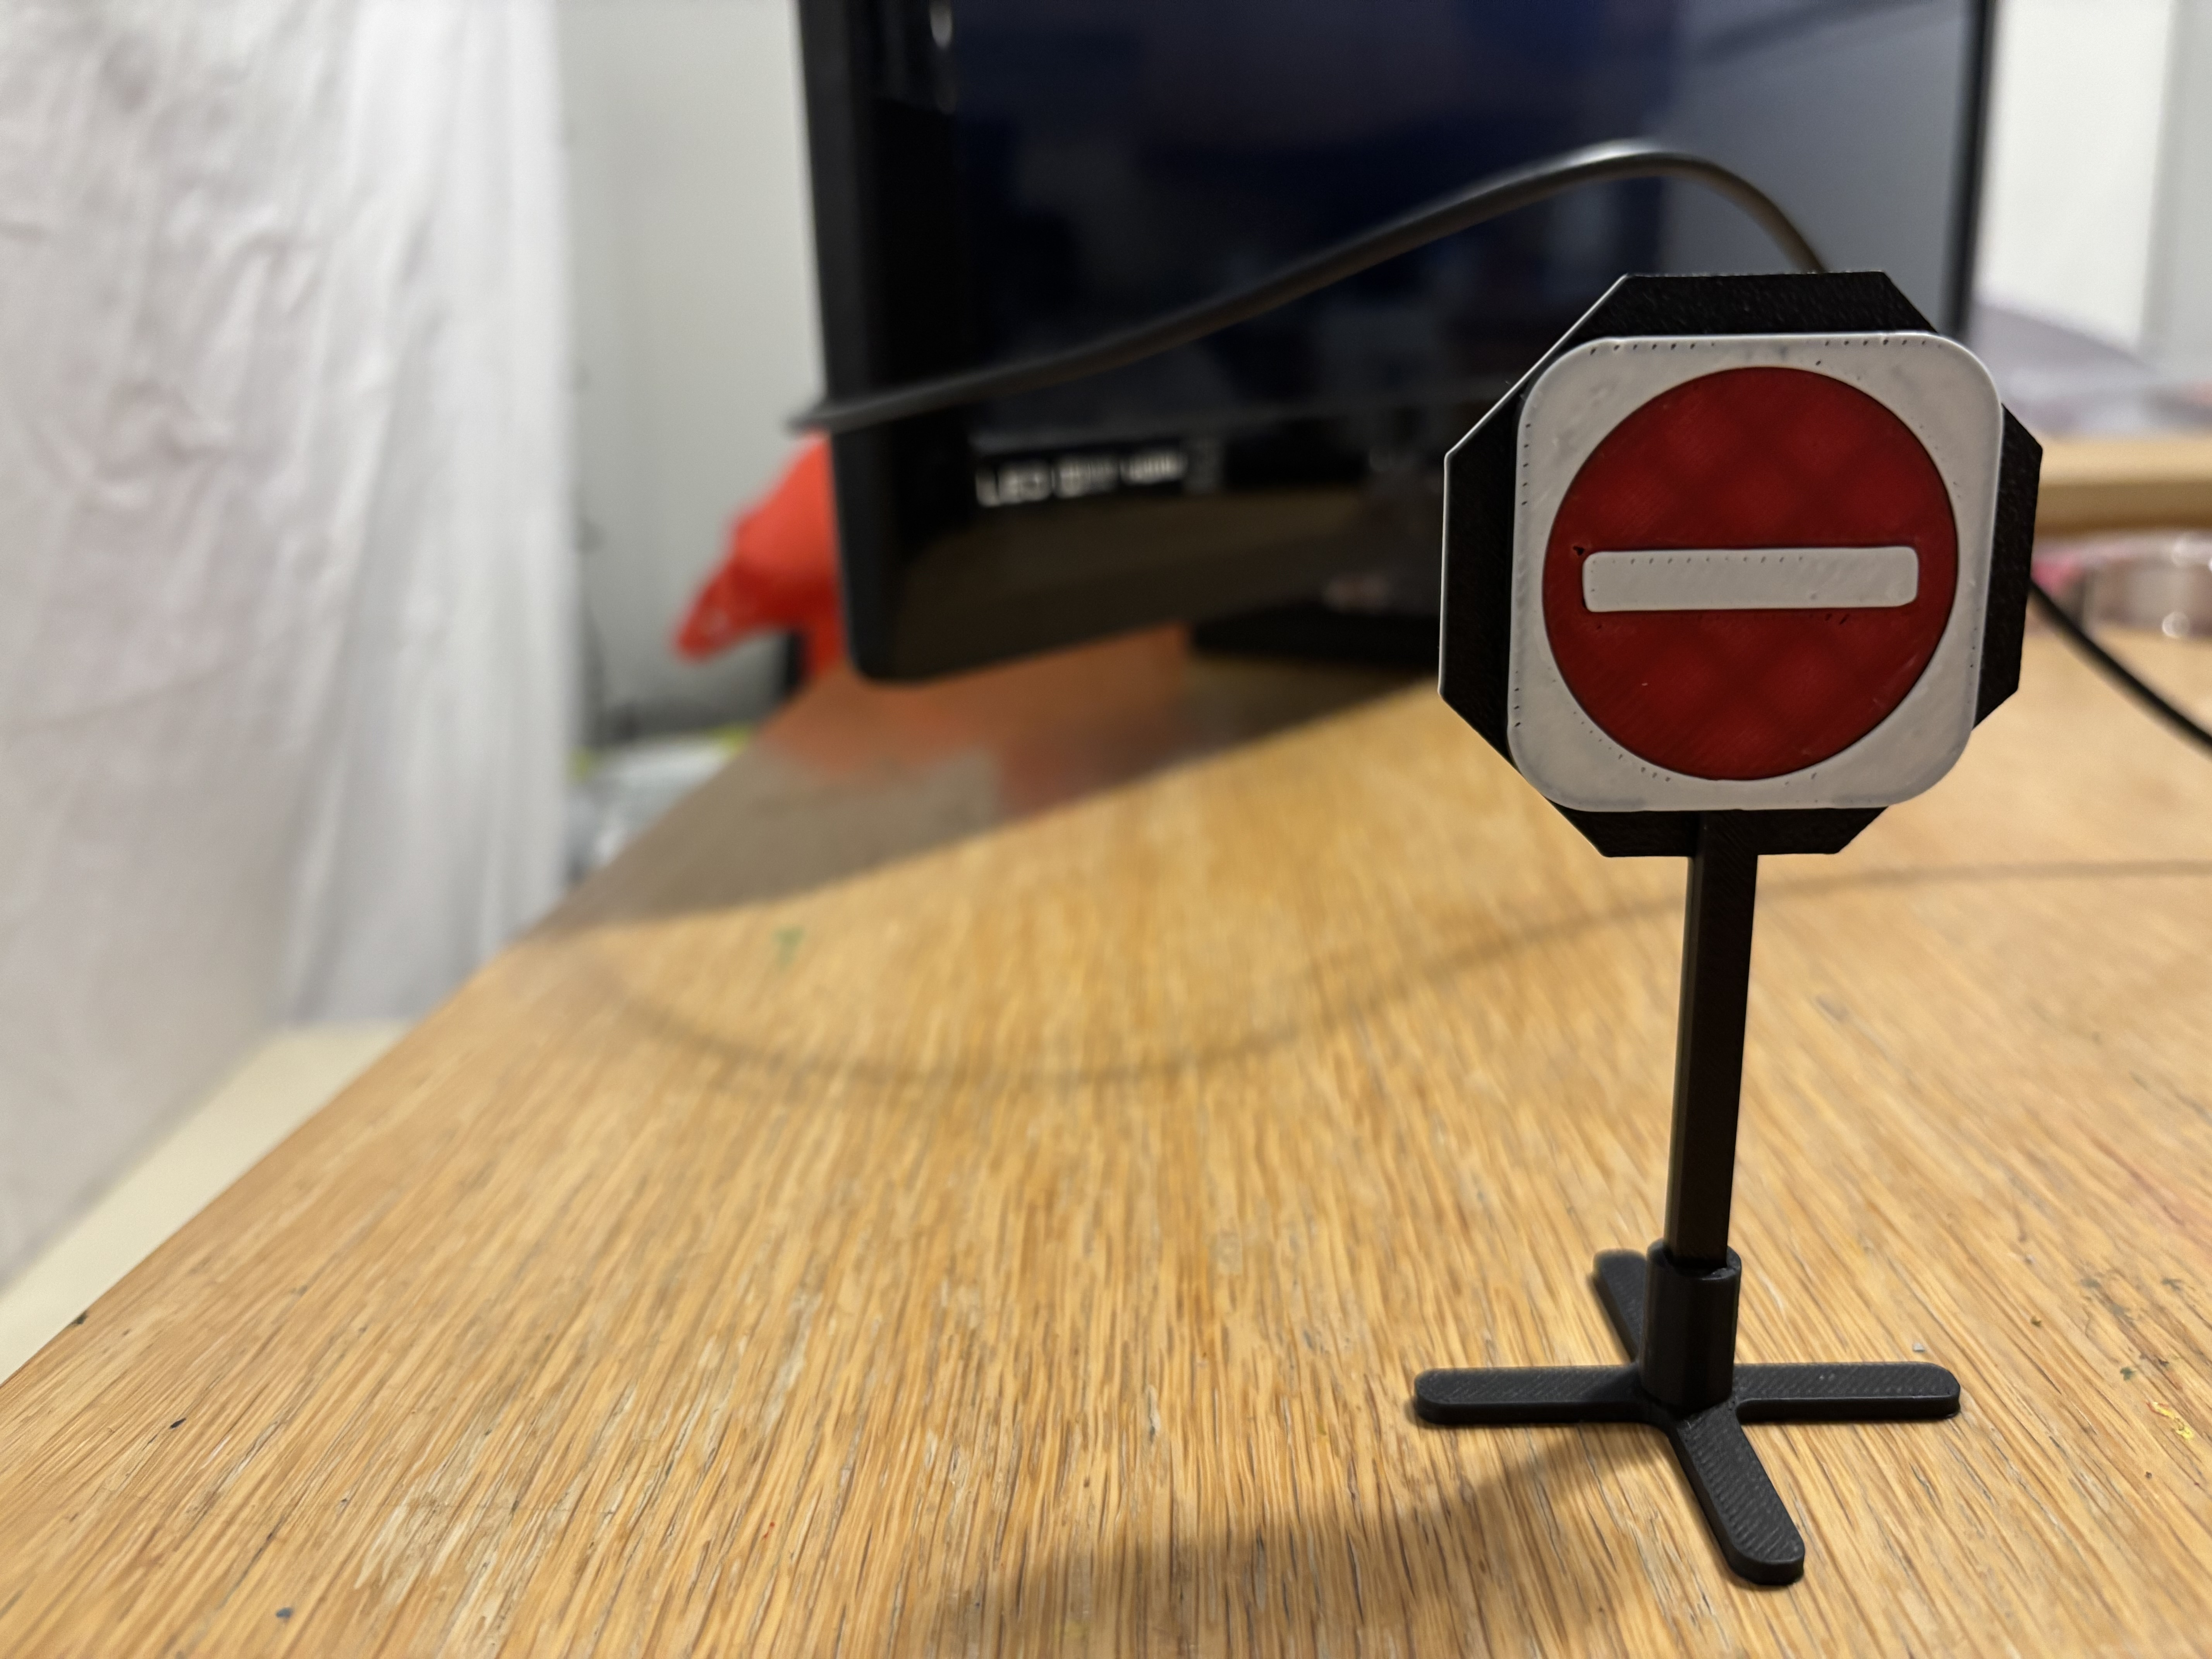sign_noentry: (1493, 326, 2000, 826)
